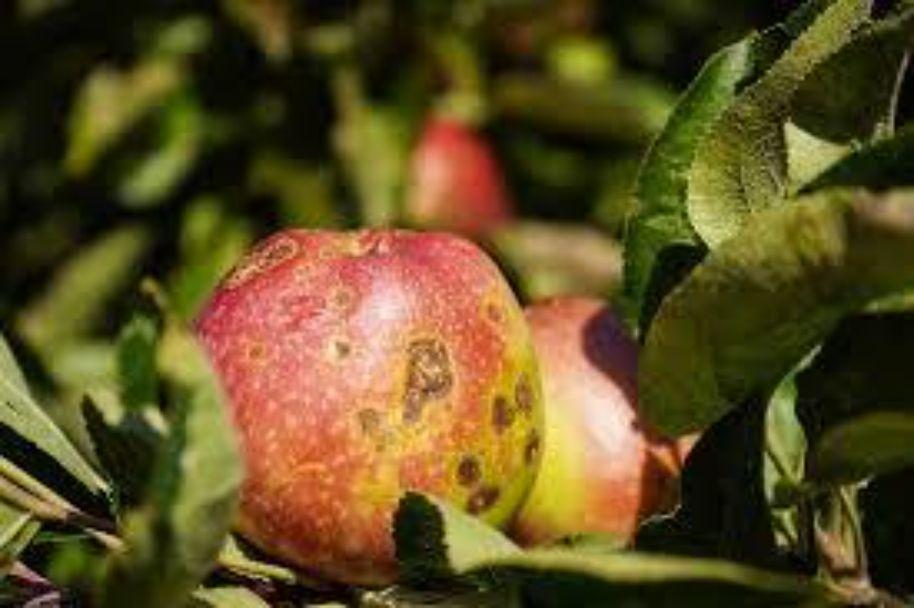SCAB: (186, 189, 577, 575)
